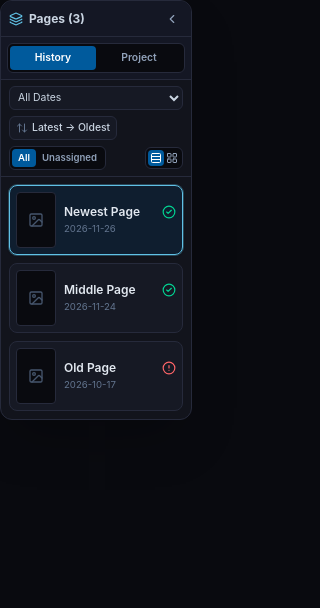
Test: PageRail › toggles the flex grid and single-column strip layouts
Click the button named "Grid layout" at (172,158), box [164,150,180,166]
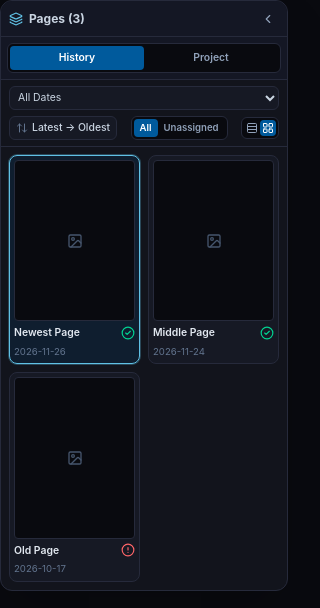
Expected: the element with test id "rail-history-list" has attribute data-layout="grid"
Expected: the element with test id "rail-history-list" has class "flex-wrap"
Click the button named "Strip layout" at (252,128), box [244,120,260,136]
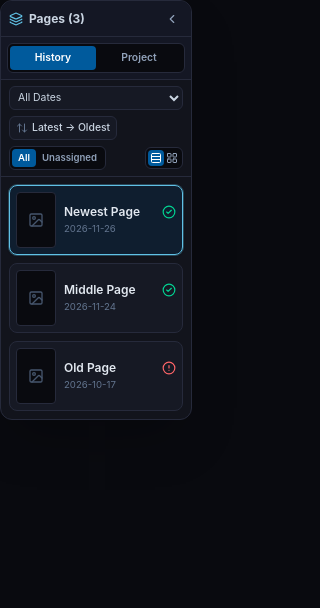
Expected: the element with test id "rail-history-list" has attribute data-layout="strip", [1,177,191,419]
Expected: the element with test id "rail-history-list" has class "flex-col", [1,177,191,419]
